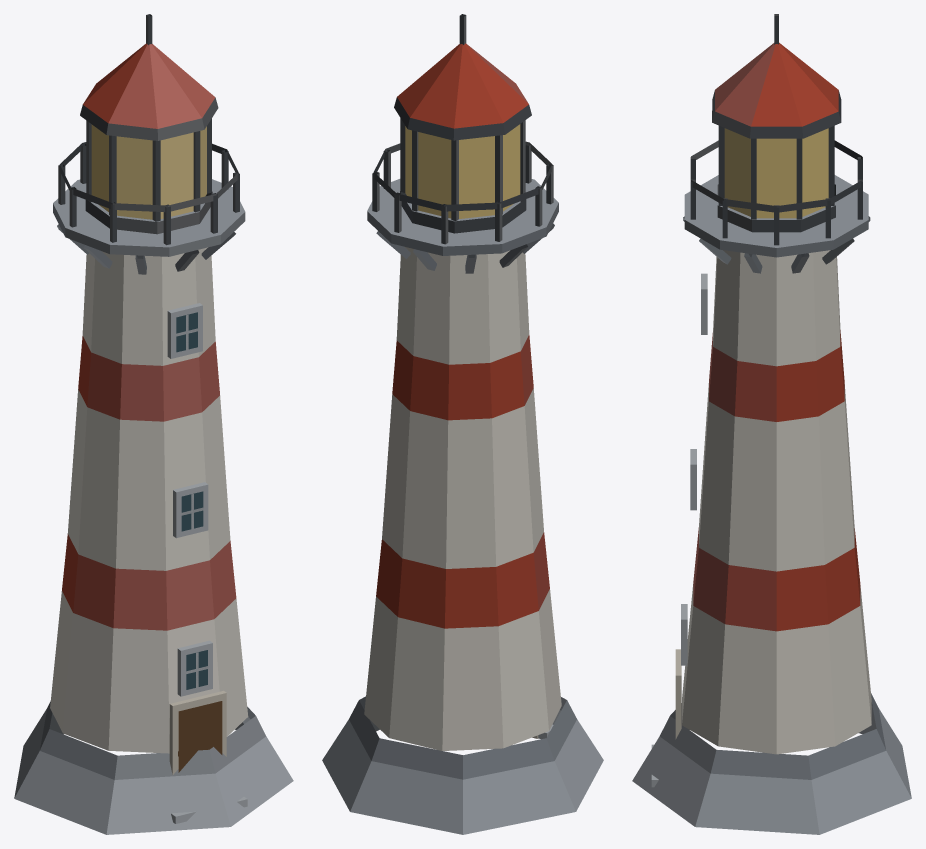
File: lighthouse.glb
3 renders of one model, left to right at view 1: azimuth 30°, elevation 25°; view 2: azimuth 150°, elevation 25°; view 3: azimuth 270°, elevation 25°, orthographic.
Parts seen in each view (by area): view 1: lighthouse; view 2: lighthouse; view 3: lighthouse.
Part boxes in pixels (left/top/right/bottom): lighthouse: left=14, top=14, right=293, bottom=834; lighthouse: left=322, top=14, right=603, bottom=834; lighthouse: left=632, top=14, right=911, bottom=834.
Size of the model in its own units: 3.79 by 11.29 by 3.76.
